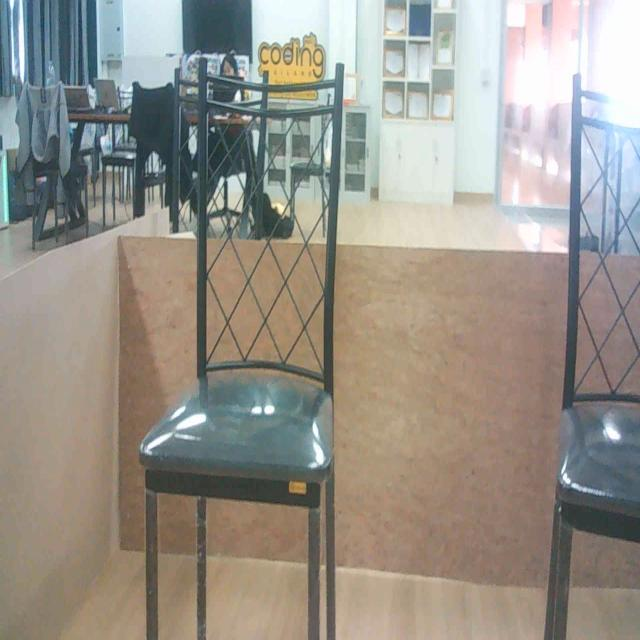emtpy: (147, 34, 344, 640), (555, 71, 640, 640)
